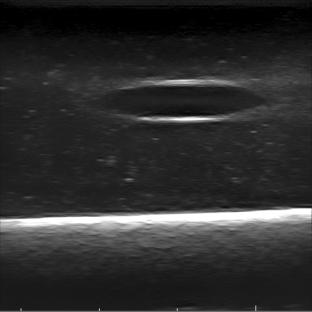vessel: (102, 79, 270, 125)
